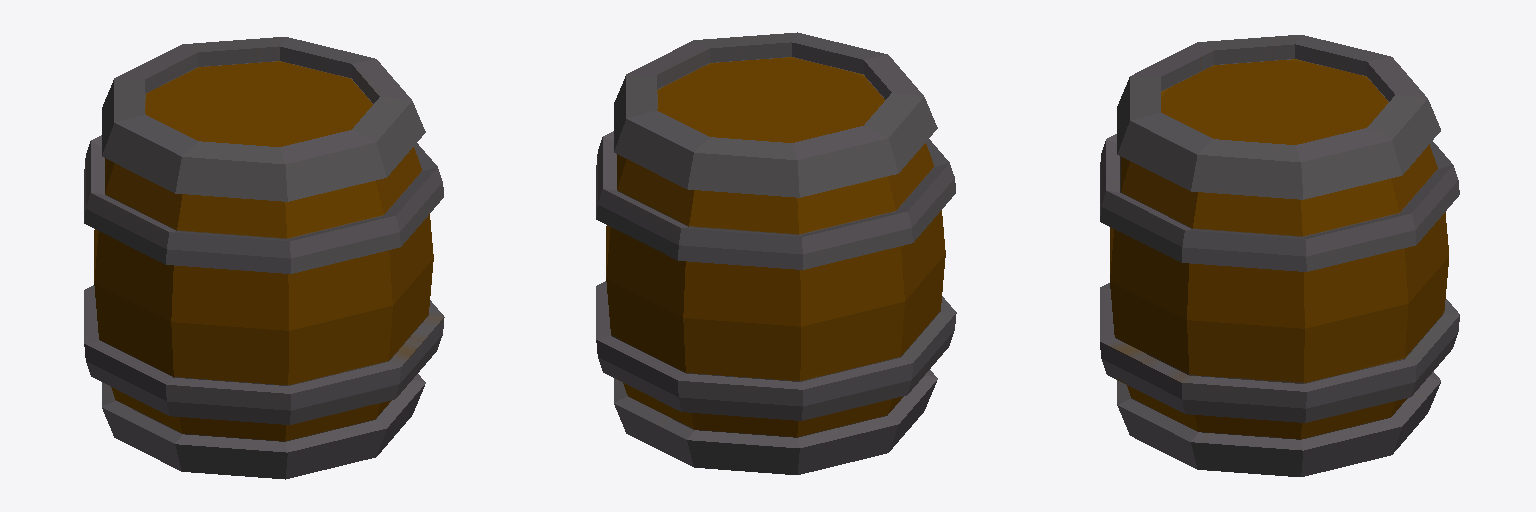
The picture shows the model from 3 angles: view 1: azimuth 30°, elevation 25°; view 2: azimuth 150°, elevation 25°; view 3: azimuth 270°, elevation 25°; orthographic projection.
Visible parts, largest first — view 1: Barrel; view 2: Barrel; view 3: Barrel.
Part boxes in pixels (x1,y1,x2,y2): Barrel: (84,37,444,479); Barrel: (596,32,956,474); Barrel: (1100,35,1459,476).
Size of the model in its own units: 0.8482 by 0.8243 by 0.8353.
Materials: 1 (1 with a texture image).